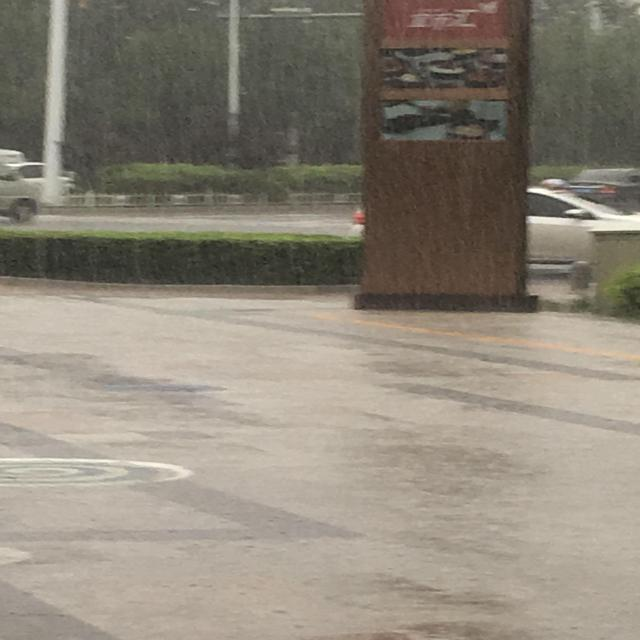car: (348, 178, 638, 264), (0, 164, 40, 224), (568, 168, 640, 200), (13, 161, 76, 194)
